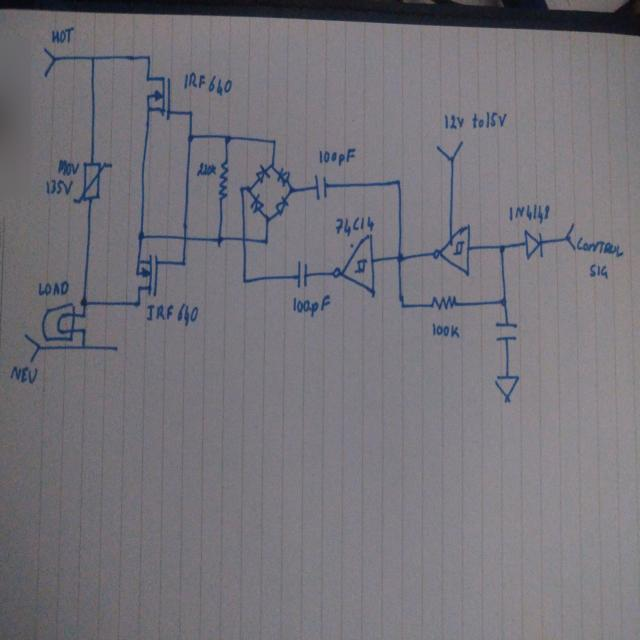capacitor: (494, 319, 518, 344), (312, 171, 330, 201), (294, 259, 310, 290)
crossover: (239, 234, 248, 244), (180, 233, 189, 243)
diode: (521, 228, 547, 259), (250, 194, 264, 214), (276, 168, 290, 188), (255, 164, 269, 183), (276, 195, 288, 216)
ground: (493, 374, 521, 403)
junction: (213, 233, 225, 248), (136, 228, 146, 242), (498, 294, 508, 307), (394, 251, 404, 264), (222, 132, 231, 146), (498, 242, 507, 255), (264, 211, 272, 225), (144, 52, 154, 63), (186, 131, 195, 143), (398, 299, 407, 310), (79, 297, 88, 307), (240, 276, 249, 286), (179, 257, 187, 268), (246, 183, 254, 194), (268, 160, 276, 171), (134, 298, 142, 308), (262, 236, 270, 246), (287, 186, 295, 196), (395, 176, 403, 186), (88, 54, 97, 62), (80, 325, 87, 335), (271, 136, 278, 146), (80, 341, 86, 351), (113, 342, 119, 352), (187, 108, 194, 116), (80, 310, 86, 319), (238, 185, 244, 192)
resistor: (428, 294, 458, 312), (218, 158, 229, 201)
terminal: (435, 139, 464, 162), (22, 333, 40, 362), (41, 46, 56, 79), (564, 221, 576, 251)
text: (444, 110, 507, 131), (146, 302, 199, 326), (183, 71, 232, 96), (576, 236, 623, 257), (292, 294, 330, 317), (508, 204, 550, 224), (334, 216, 374, 236), (318, 148, 356, 166), (8, 365, 38, 383), (45, 177, 73, 196), (36, 280, 69, 296), (49, 25, 75, 45), (432, 322, 461, 339), (56, 158, 78, 177), (588, 262, 609, 280), (196, 161, 217, 177)
transistor: (142, 74, 172, 122), (134, 252, 162, 298)
